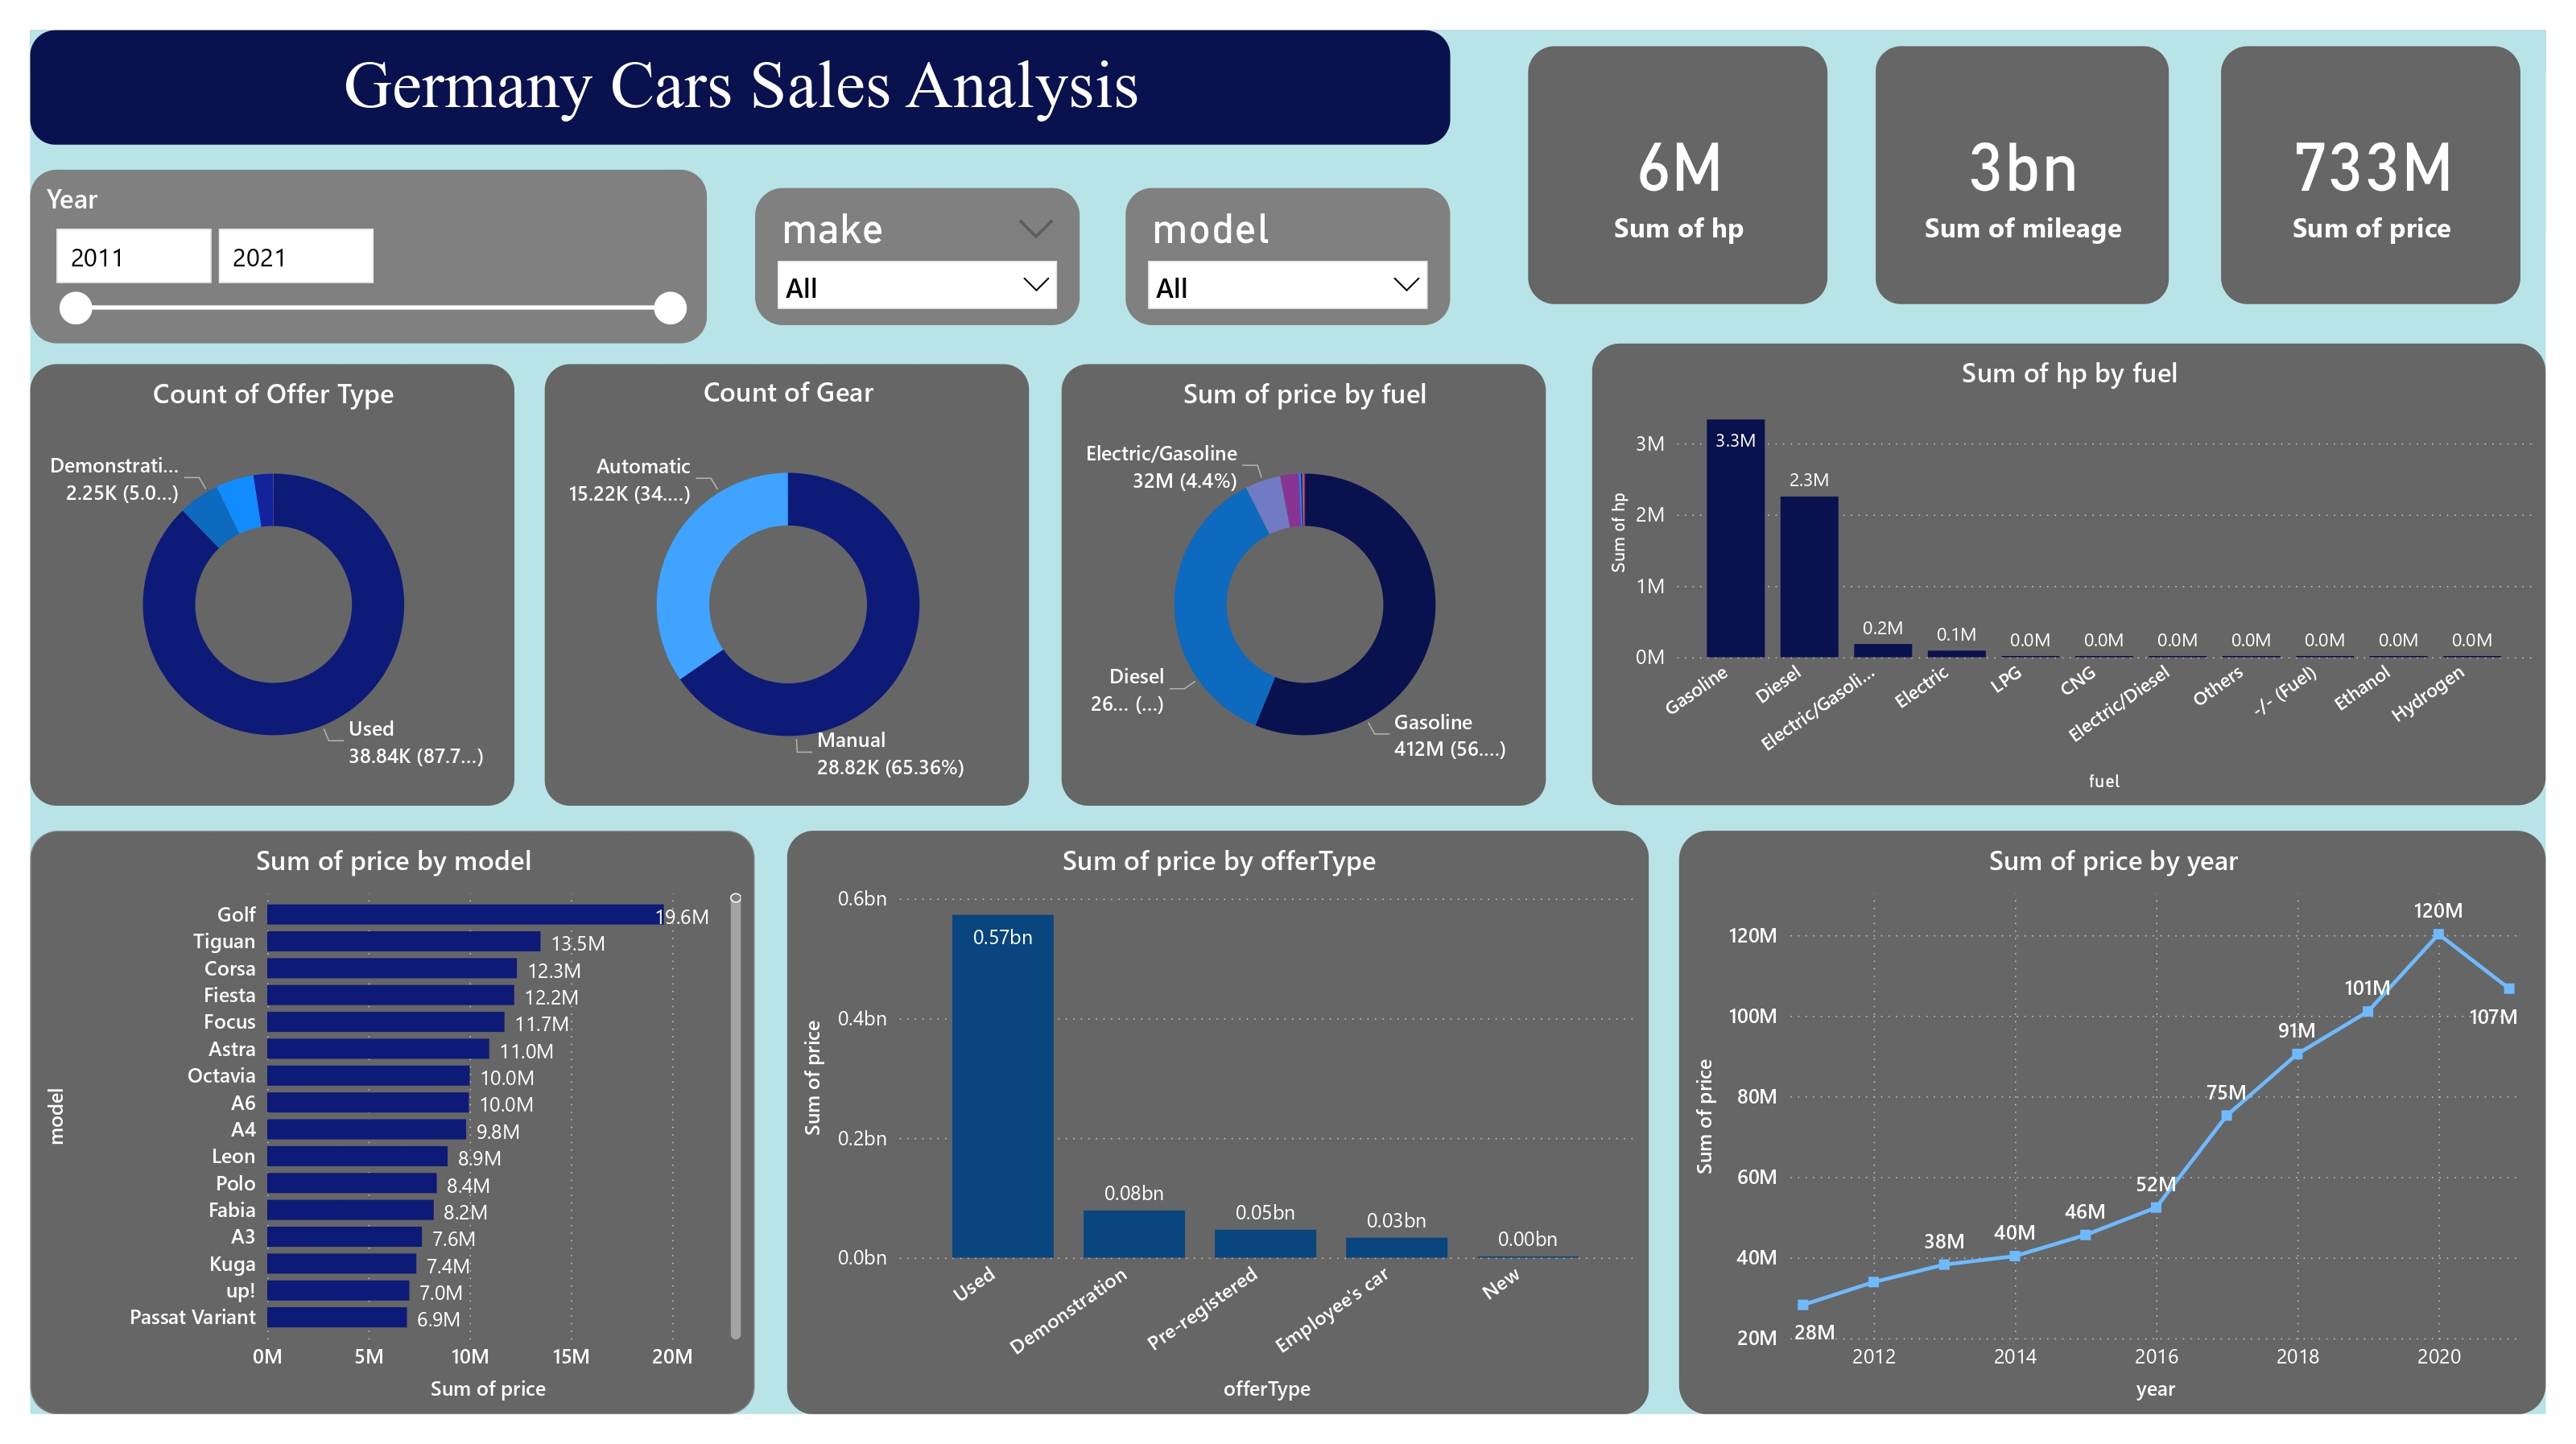

Layout of this report page (visuals, bound fields, positions):
{"tool":"powerbi","page":{"name":"Page 1","canvas":[2000,1100],"ordinal":0},"visuals":[{"type":"clusteredBarChart","fields":{"Category":["Sheet1.model"],"Y":["Sum(Sheet1.price)"]},"box":[0,636.4,576.4,463.6],"z":0},{"type":"donutChart","fields":{"Category":["Sheet1.fuel"],"Y":["Sum(Sheet1.price)"]},"box":[820,265.5,385.5,350.9],"z":1000},{"type":"textbox","box":[0,0,1129.1,90.9],"z":2000},{"type":"donutChart","title":"Count of Gear ","fields":{"Category":["Sheet1.gear"],"Y":["CountNonNull(Sheet1.gear)"]},"box":[409.1,265.5,385.5,350.9],"z":3000},{"type":"columnChart","fields":{"Category":["Sheet1.offerType"],"Y":["Sum(Sheet1.price)"]},"box":[601.8,636.4,685.5,463.6],"z":4000},{"type":"lineChart","fields":{"Category":["Sheet1.year"],"Y":["Sum(Sheet1.price)"]},"box":[1310.9,636.4,689.1,463.6],"z":5000},{"type":"donutChart","title":"Count of Offer Type ","fields":{"Category":["Sheet1.offerType"],"Y":["CountNonNull(Sheet1.offerType)"]},"box":[0,265.5,385.5,350.9],"z":6000},{"type":"slicer","title":"Year","fields":{"Values":["Sheet1.year"]},"box":[0,110.9,538.2,138.2],"z":7000},{"type":"card","fields":{"Values":["Sum(Sheet1.price)"]},"box":[1741.8,12.7,238.2,205.5],"z":8000},{"type":"card","fields":{"Values":["Sum(Sheet1.mileage)"]},"box":[1467.3,12.7,232.7,205.5],"z":9000},{"type":"card","fields":{"Values":["Sum(Sheet1.hp)"]},"box":[1190.9,12.7,238.2,205.5],"z":10000},{"type":"slicer","fields":{"Values":["Sheet1.make"]},"box":[576.4,125.5,258.2,109.1],"z":11000},{"type":"columnChart","fields":{"Category":["Sheet1.fuel"],"Y":["Sum(Sheet1.hp)"]},"box":[1241.8,249.1,758.2,367.3],"z":12000},{"type":"slicer","fields":{"Values":["Sheet1.model"]},"box":[870.9,125.5,258.2,109.1],"z":12001}]}

Visuals, with their boxes in screenshot pixels (x1, y1, x2, y2):
clusteredBarChart - Sheet1.model x Sum(Sheet1.price): detection(31, 831, 755, 1413)
donutChart - Sheet1.fuel x Sum(Sheet1.price): detection(1062, 364, 1546, 806)
textbox: detection(31, 31, 1451, 145)
"Count of Gear " donutChart: detection(545, 364, 1030, 806)
columnChart - Sheet1.offerType x Sum(Sheet1.price): detection(787, 831, 1649, 1413)
lineChart - Sheet1.year x Sum(Sheet1.price): detection(1679, 831, 2545, 1413)
"Count of Offer Type " donutChart: detection(31, 364, 515, 806)
"Year" slicer: detection(31, 170, 707, 344)
card - Sum(Sheet1.price): detection(2221, 46, 2520, 304)
card - Sum(Sheet1.mileage): detection(1876, 46, 2169, 304)
card - Sum(Sheet1.hp): detection(1528, 46, 1827, 304)
slicer - Sheet1.make: detection(755, 188, 1080, 325)
columnChart - Sheet1.fuel x Sum(Sheet1.hp): detection(1592, 344, 2545, 806)
slicer - Sheet1.model: detection(1125, 188, 1451, 325)
